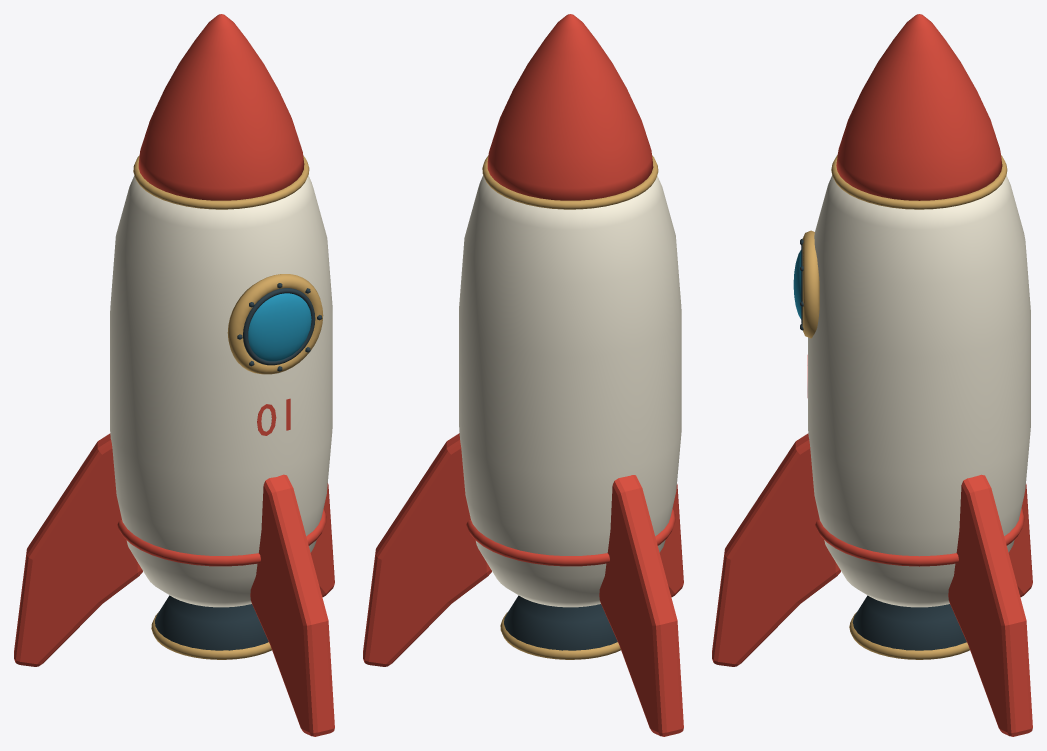
The model's file is rocket.glb.
3 views of the same model, side by side, from view 1: azimuth 30°, elevation 25°; view 2: azimuth 150°, elevation 25°; view 3: azimuth 270°, elevation 25° (orthographic).
Visible parts, largest first — view 1: rocket | warm porcelain, rocket | vermilion enamel, rocket | champagne brass, rocket | midnight graphite, rocket | sapphire ceramic; view 2: rocket | warm porcelain, rocket | vermilion enamel, rocket | midnight graphite, rocket | champagne brass; view 3: rocket | warm porcelain, rocket | vermilion enamel, rocket | champagne brass, rocket | midnight graphite.
Boxes of the visible parts, x1=… form: rocket | warm porcelain: x1=110, y1=175, x2=332, y2=607; rocket | vermilion enamel: x1=14, y1=14, x2=334, y2=736; rocket | champagne brass: x1=133, y1=155, x2=323, y2=659; rocket | midnight graphite: x1=155, y1=283, x2=322, y2=650; rocket | sapphire ceramic: x1=248, y1=293, x2=311, y2=361; rocket | warm porcelain: x1=459, y1=175, x2=681, y2=607; rocket | vermilion enamel: x1=363, y1=14, x2=683, y2=736; rocket | midnight graphite: x1=504, y1=595, x2=617, y2=650; rocket | champagne brass: x1=482, y1=155, x2=658, y2=659; rocket | warm porcelain: x1=808, y1=175, x2=1030, y2=607; rocket | vermilion enamel: x1=712, y1=14, x2=1032, y2=736; rocket | champagne brass: x1=802, y1=155, x2=1007, y2=659; rocket | midnight graphite: x1=800, y1=238, x2=966, y2=650.
Size of the model in its own units: 2.71 by 5.27 by 2.36.
